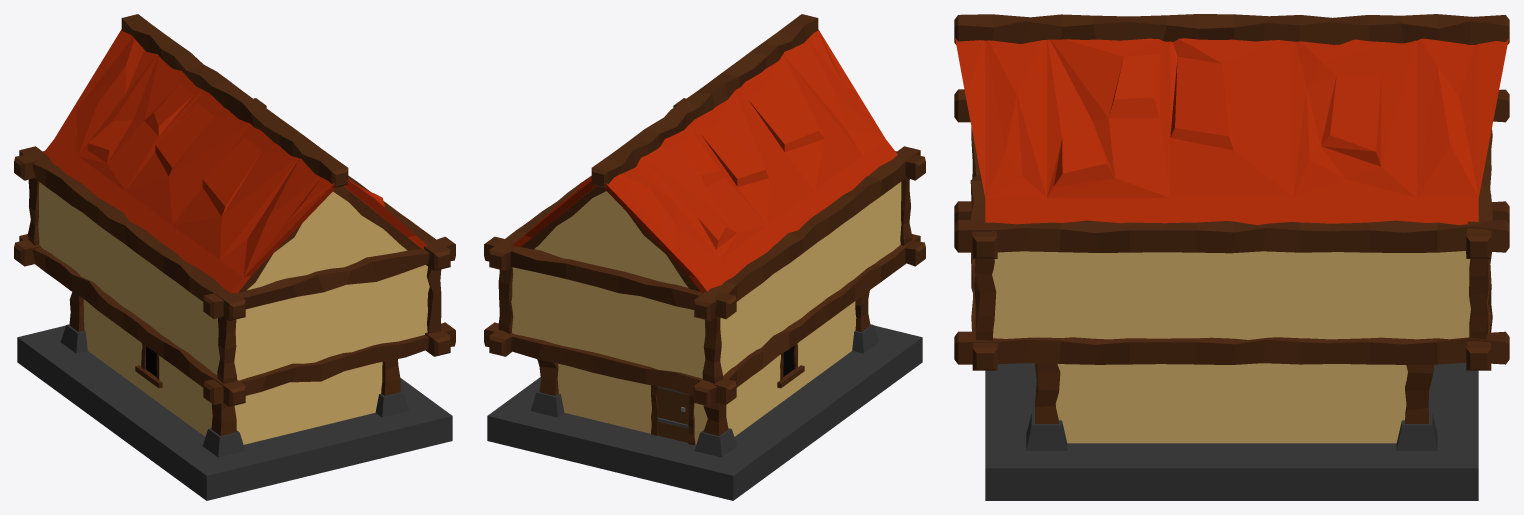
The model's file is MBS_City_House.fbx.
The picture shows the model from 3 angles, left to right: view 1: azimuth 30°, elevation 25°; view 2: azimuth 150°, elevation 25°; view 3: azimuth 270°, elevation 25°; orthographic projection. The views are drawn at different scales.
Parts seen in each view (by area): view 1: CityHouse01; view 2: CityHouse01; view 3: CityHouse01.
Boxes of the visible parts, x1=… form: CityHouse01: x1=14, y1=14, x2=455, y2=500; CityHouse01: x1=484, y1=14, x2=925, y2=500; CityHouse01: x1=954, y1=14, x2=1509, y2=500.
Bounding box in the file's own units: 1200 × 1449 × 1800.
